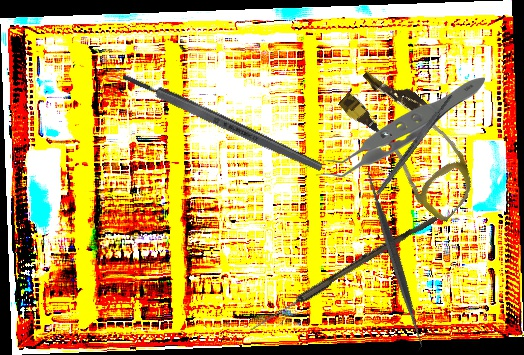Cannula: (324, 59, 497, 225)
Scalpel Handle: (120, 70, 325, 174), (374, 93, 455, 196)
Spatula Surgical: (298, 163, 491, 355)
Surgical Spoon: (248, 211, 439, 335)
Tissue Forceps: (312, 77, 485, 177)
